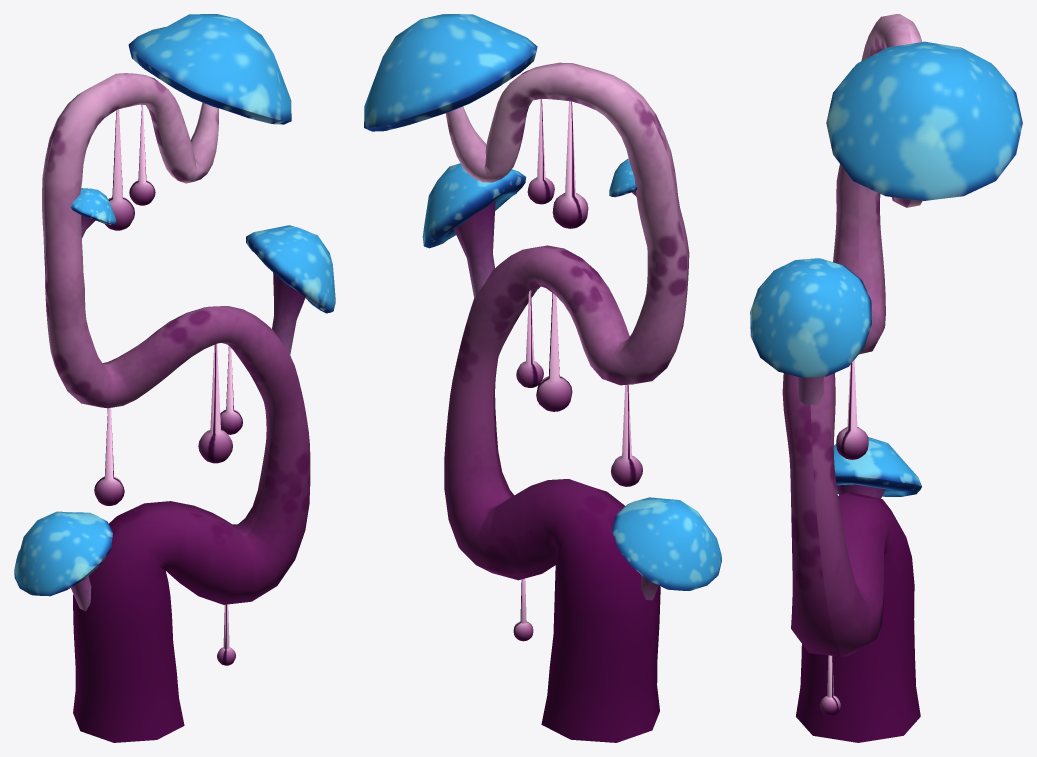
File: planta.obj
3 renders of one model, left to right at view 1: azimuth 30°, elevation 25°; view 2: azimuth 150°, elevation 25°; view 3: azimuth 270°, elevation 25°, orthographic. The views are drawn at different scales.
Visible parts, largest first — view 1: Plane; view 2: Plane; view 3: Plane.
Boxes of the visible parts, x1=… form: Plane: x1=14, y1=14, x2=335, y2=742; Plane: x1=364, y1=14, x2=721, y2=742; Plane: x1=750, y1=14, x2=1022, y2=742.
Size of the model in its own units: 0.213 by 0.4642 by 0.1585.
